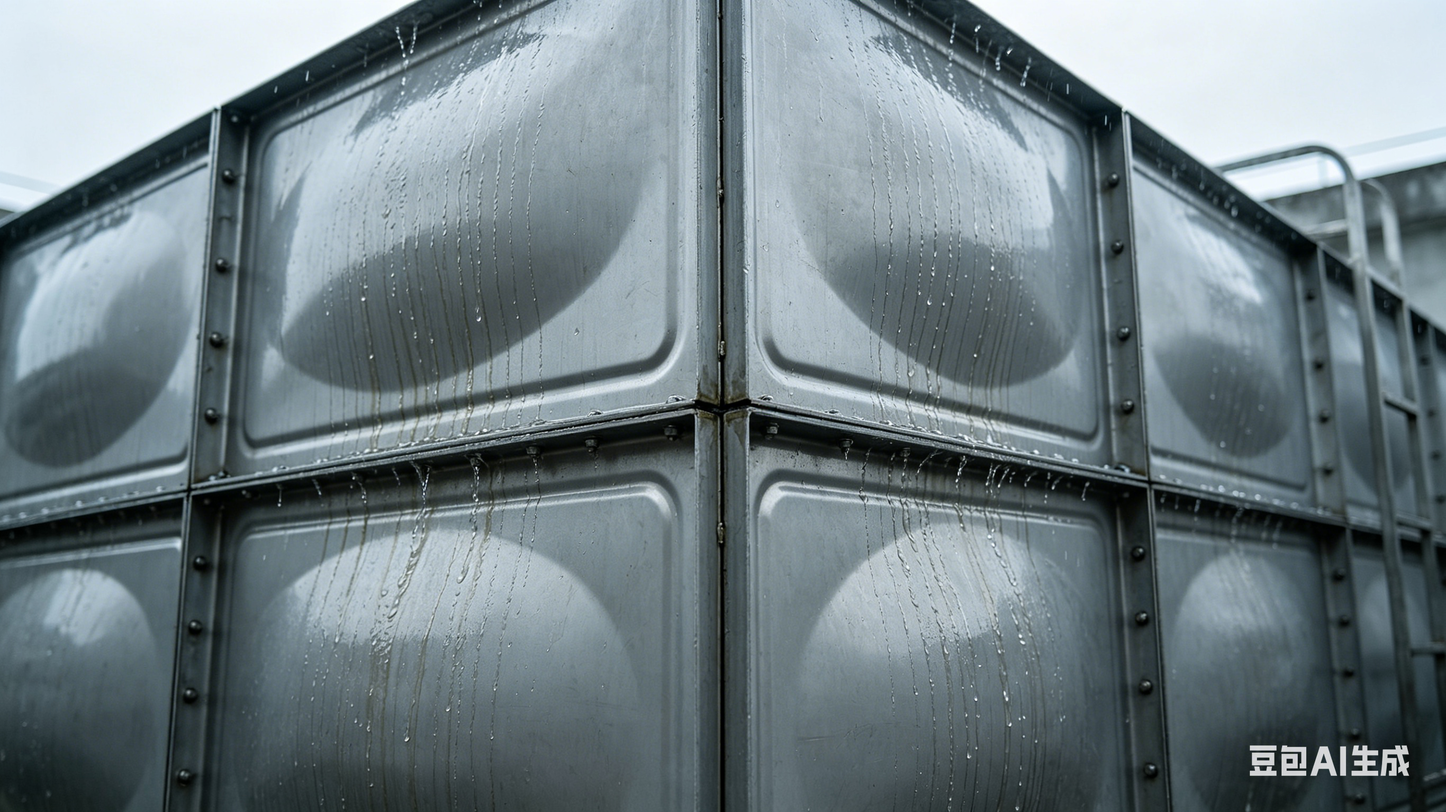Leakage: (821, 10, 1121, 805), (295, 30, 589, 767)
